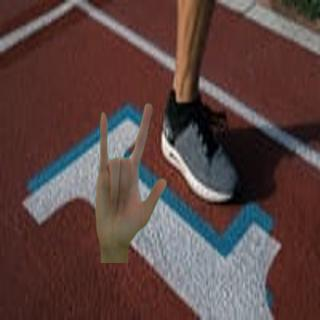ILY: (95, 103, 167, 250)
